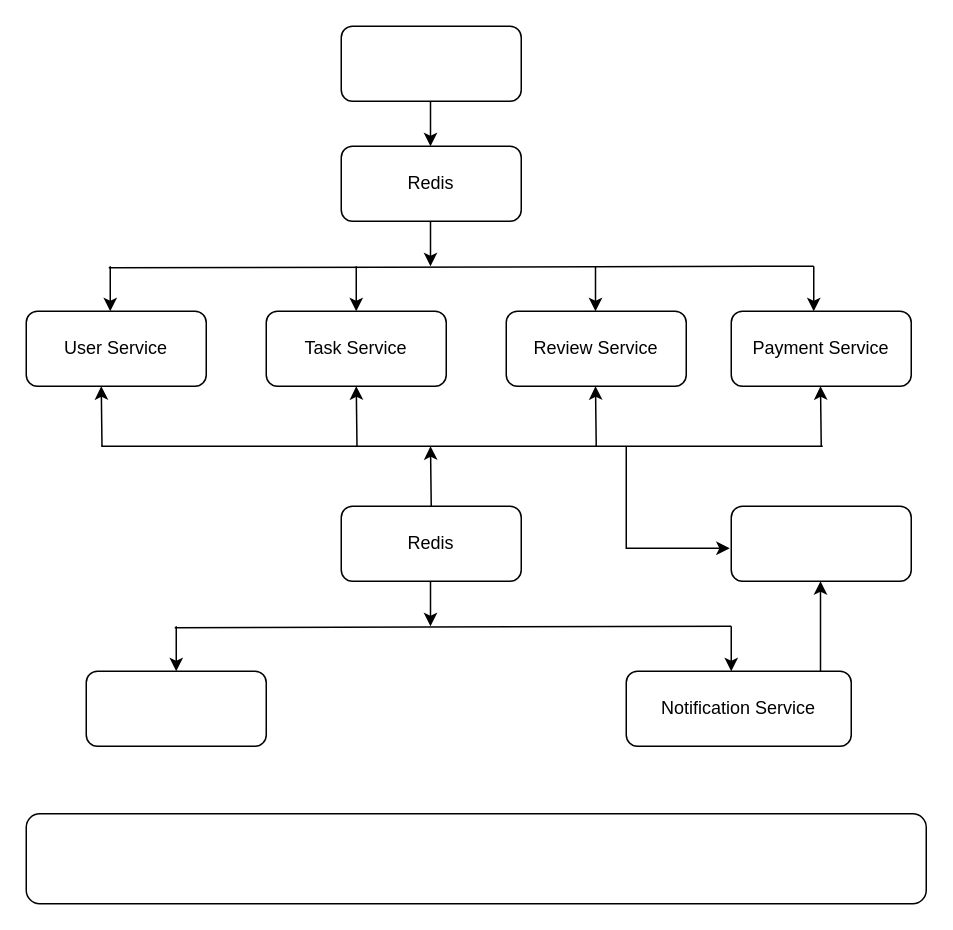
The diagram is 953 pixels wide and 930 high, and some of its shapes have lost their labels. The centre of each missing label's shape, as x and y in pixels:
API Gateway: the point at 430,63
Database: the point at 820,543
Mailer Service: the point at 175,708
Shared helpers, dtos, constants: the point at 475,858
